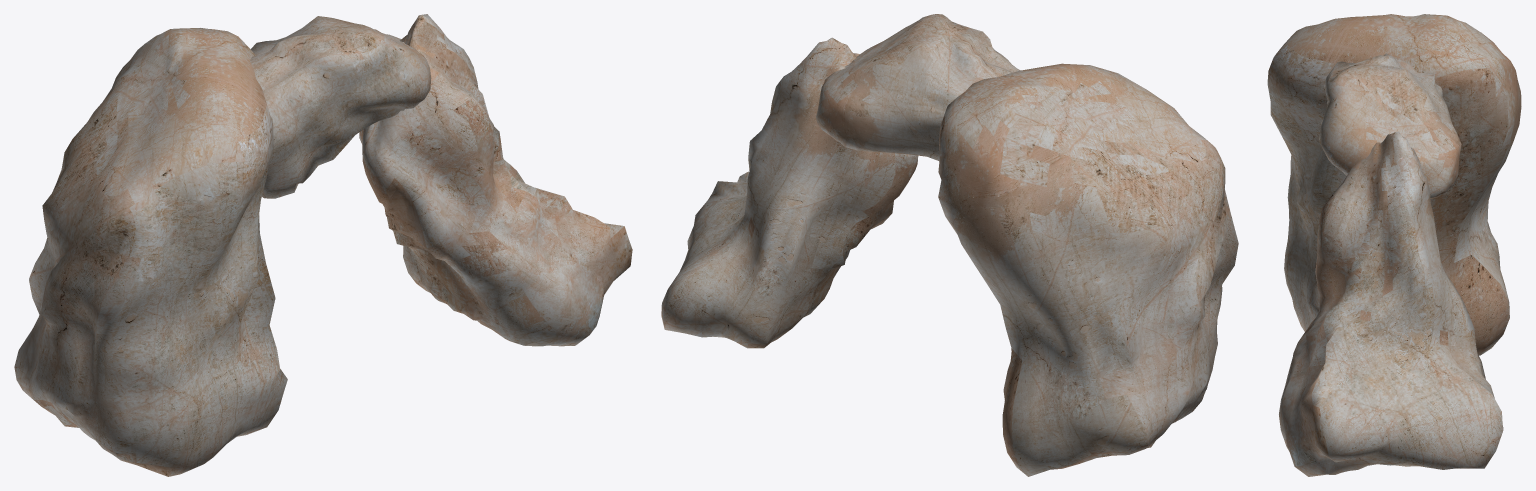
The model's file is sANDmOUNTAINS 3.fbx.
3 renders of one model, left to right at view 1: azimuth 30°, elevation 25°; view 2: azimuth 150°, elevation 25°; view 3: azimuth 270°, elevation 25°, orthographic. The views are drawn at different scales.
Visible parts, largest first — view 1: Landscape.002, Landscape.004, Landscape.003; view 2: Landscape.002, Landscape.004, Landscape.003; view 3: Landscape.004, Landscape.002, Landscape.003.
Part boxes in pixels (x1,y1,x2,y2): Landscape.002: (14,28,287,476); Landscape.004: (359,14,632,346); Landscape.003: (250,16,431,198); Landscape.002: (938,63,1238,476); Landscape.004: (661,37,918,348); Landscape.003: (816,14,1020,160); Landscape.004: (1279,131,1503,476); Landscape.002: (1267,14,1521,355); Landscape.003: (1319,53,1461,198).
Size of the model in its own units: 513 by 339 by 219.
